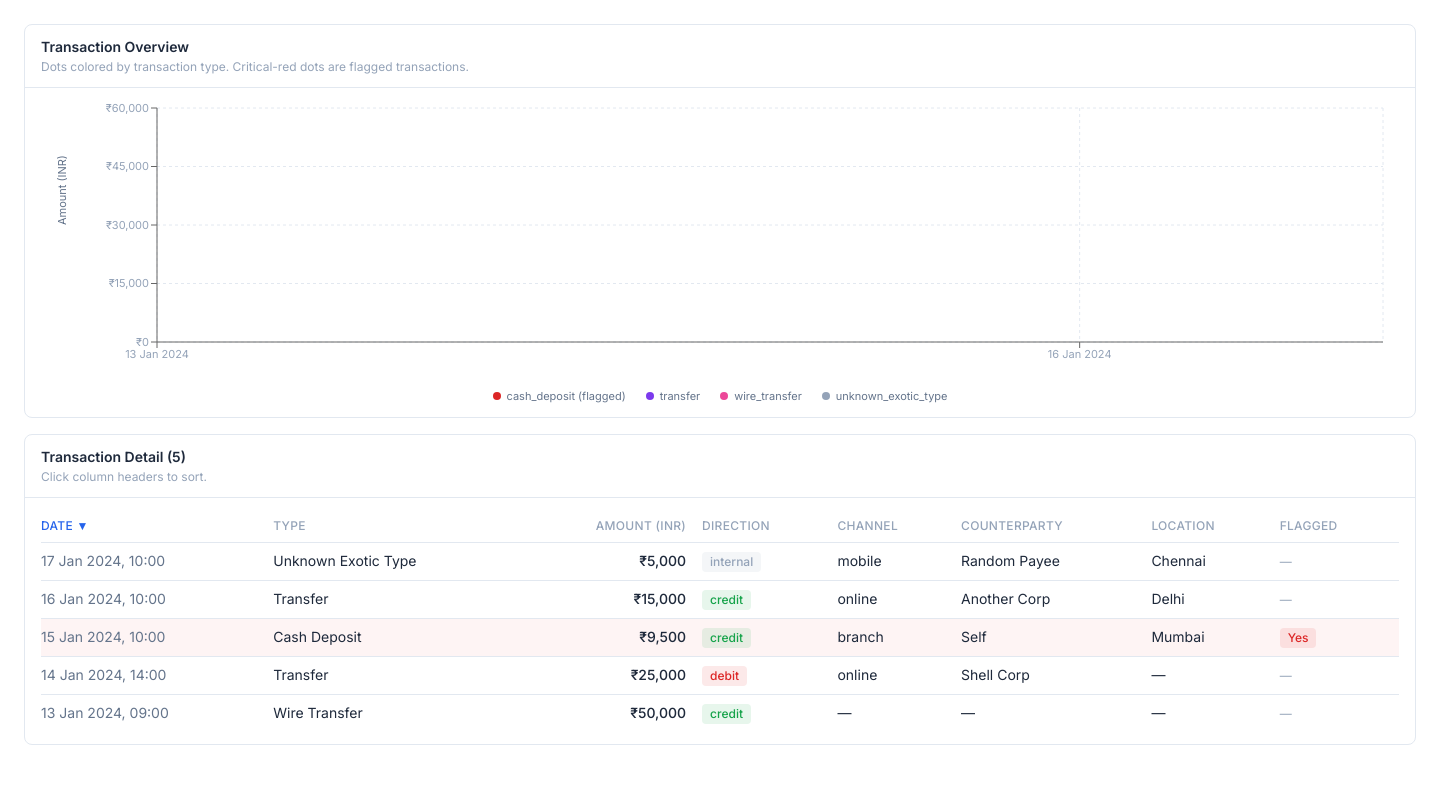
Scenario: TransactionTimeline › sorts by Flagged column
Click the column heading "Flagged".
click(1339, 526)  # box [1280, 510, 1399, 542]
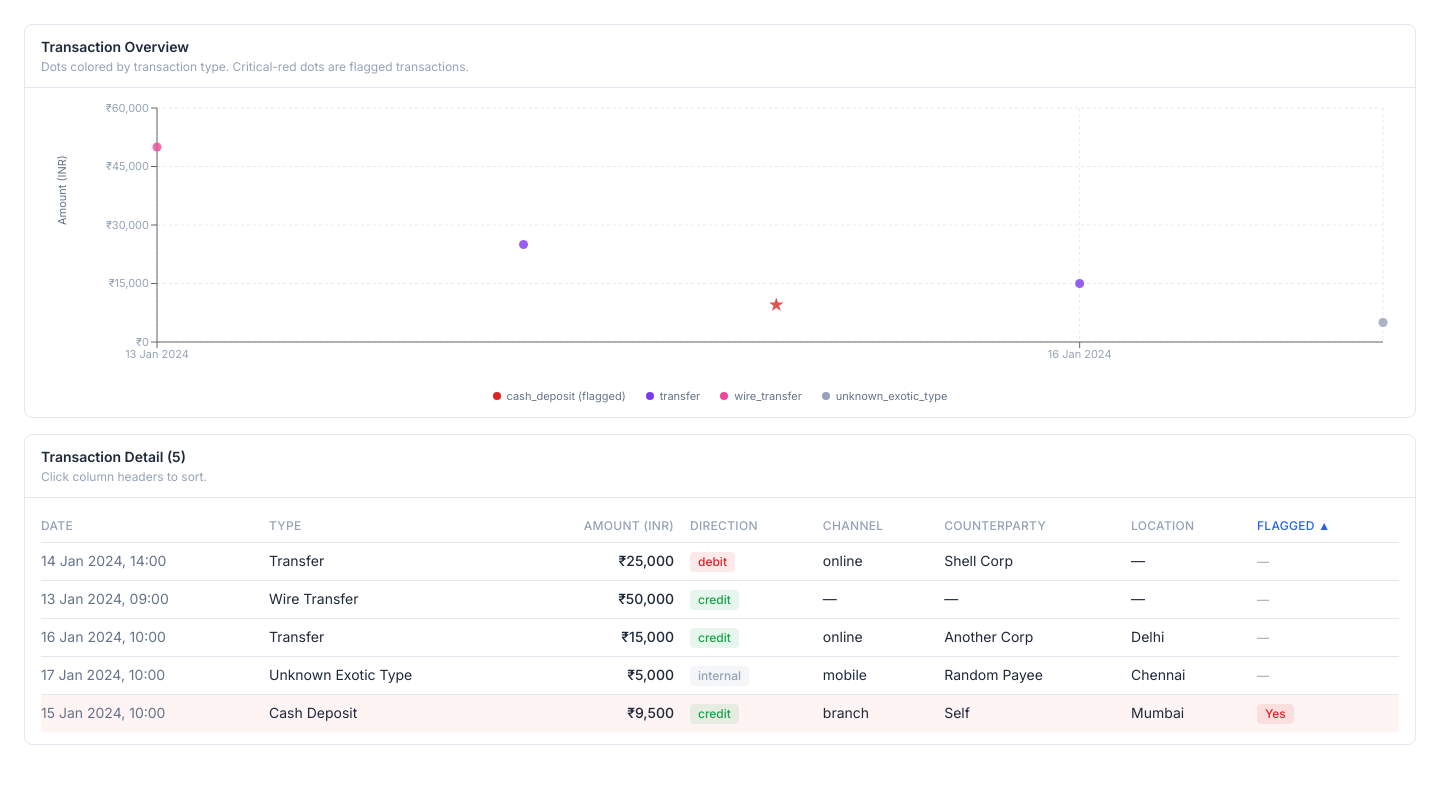
Now the column heading "Flagged ▲" is shown, box [1257, 510, 1399, 542]
